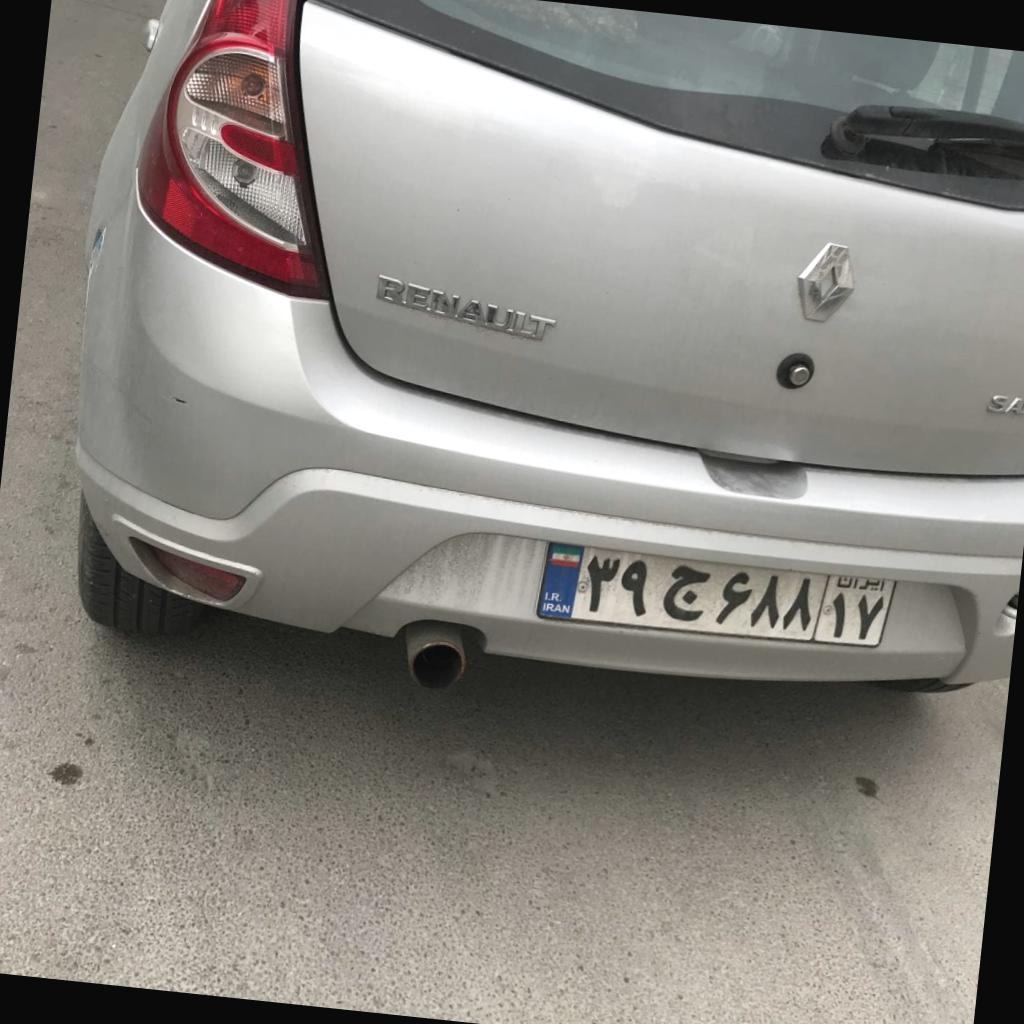Plates: (535, 542, 897, 647)
